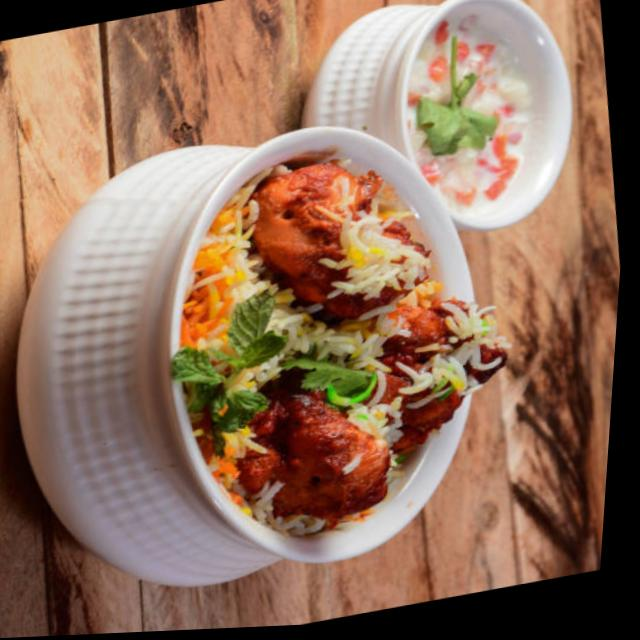BIRIYANI: (188, 161, 505, 534)
CURD: (406, 18, 529, 199)
